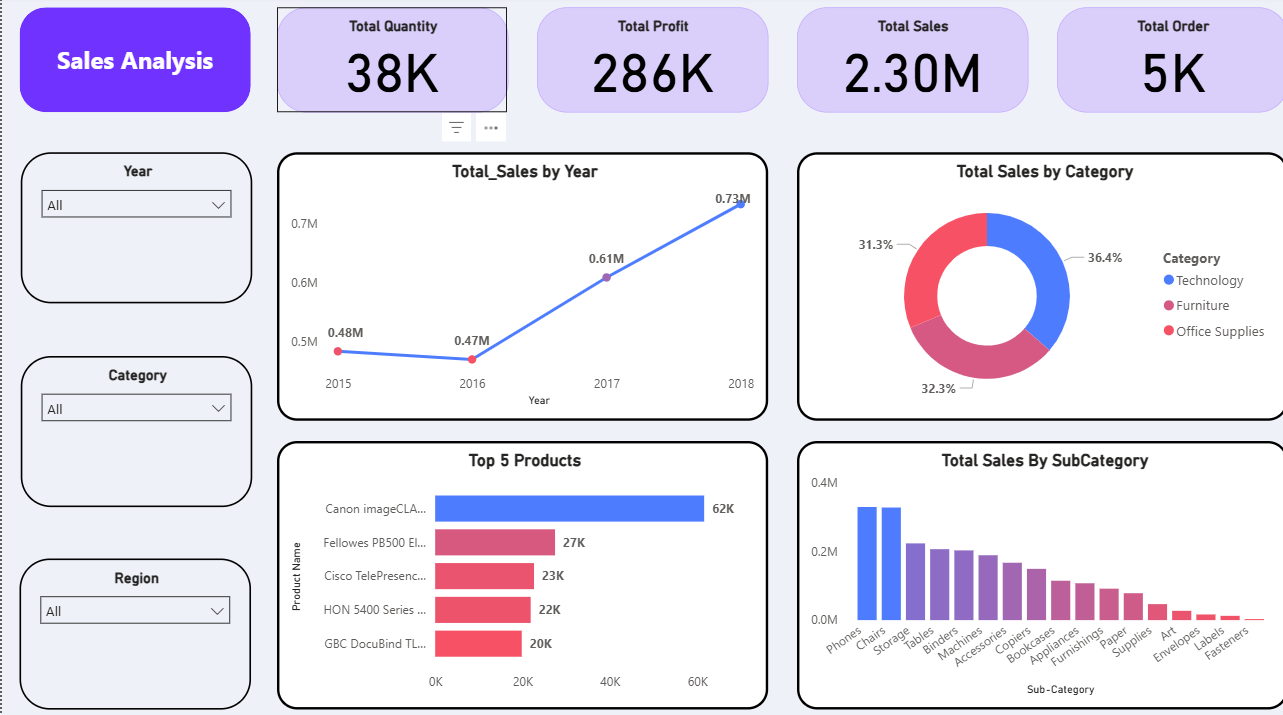

What the dashboard file says about the page in this screenshot:
{"tool":"powerbi","page":{"name":"Page 2","canvas":[1280,720],"ordinal":1},"visuals":[{"type":"cardVisual","title":"Total Order","fields":{"Data":["DAXmeasure.Total_Order"]},"box":[1049.4,11.2,230,105],"z":0},{"type":"cardVisual","title":"Total Profit","fields":{"Data":["DAXmeasure.Total_Profit"]},"box":[531.9,11.2,230,105],"z":1000},{"type":"cardVisual","title":"Total Quantity","fields":{"Data":["DAXmeasure.Total_Quantity"]},"box":[273.2,11.2,230,105],"z":2000},{"type":"cardVisual","title":"Total Sales","fields":{"Data":["DAXmeasure.Total_Sales"]},"box":[790.6,11.2,230,105],"z":3000},{"type":"shape","box":[17.4,11.2,230.1,104.5],"z":4000},{"type":"slicer","title":"Region","fields":{"Values":["CustomerDim.Region"]},"box":[17.4,559.8,230.1,150.5],"z":5000},{"type":"slicer","title":"Year","fields":{"Values":["DateDim.Order Date.Variation.Date Hierarchy.Year"]},"box":[18.7,155.5,230.1,150.5],"z":6000},{"type":"slicer","title":"Category","fields":{"Values":["ProductDim.Category"]},"box":[18.7,357.6,230.1,150.5],"z":7000},{"type":"lineChart","fields":{"Category":["DateDim.Order Date.Variation.Date Hierarchy.Year","DateDim.Order Date.Variation.Date Hierarchy.Quarter","DateDim.Order Date.Variation.Date Hierarchy.Month","DateDim.Order Date.Variation.Date Hierarchy.Day"],"Y":["DAXmeasure.Total_Sales"]},"box":[273.7,155.5,488.9,267.5],"z":8000},{"type":"donutChart","title":"Total Sales by Category","fields":{"Category":["ProductDim.Category"],"Y":["DAXmeasure.Total_Sales"]},"box":[791.2,155.5,488.9,267.5],"z":9000},{"type":"barChart","title":"Top 5 Products","fields":{"Y":["DAXmeasure.Total_Sales"],"Category":["ProductDim.Product Name"]},"box":[273.7,442.8,488.9,267.5],"z":10000},{"type":"columnChart","title":"Total Sales By SubCategory","fields":{"Y":["DAXmeasure.Total_Sales"],"Category":["ProductDim.Sub-Category"]},"box":[791.2,442.8,488.9,267.5],"z":11000}]}

Visuals, with their boxes in screenshot pixels (x1, y1, x2, y2), scaled from the page's 1280x720 canvas onto the 1283x715 screenshot:
"Total Order" cardVisual: 1052, 11, 1282, 115
"Total Profit" cardVisual: 533, 11, 764, 115
"Total Quantity" cardVisual: 274, 11, 504, 115
"Total Sales" cardVisual: 792, 11, 1023, 115
shape: 17, 11, 248, 115
"Region" slicer: 17, 556, 248, 705
"Year" slicer: 19, 154, 249, 304
"Category" slicer: 19, 355, 249, 505
lineChart - DateDim.Order Date.Variation.Date Hierarchy.Year x DateDim.Order Date.Variation.Date Hierarchy.Quarter: 274, 154, 764, 420
"Total Sales by Category" donutChart: 793, 154, 1282, 420
"Top 5 Products" barChart: 274, 440, 764, 705
"Total Sales By SubCategory" columnChart: 793, 440, 1282, 705
